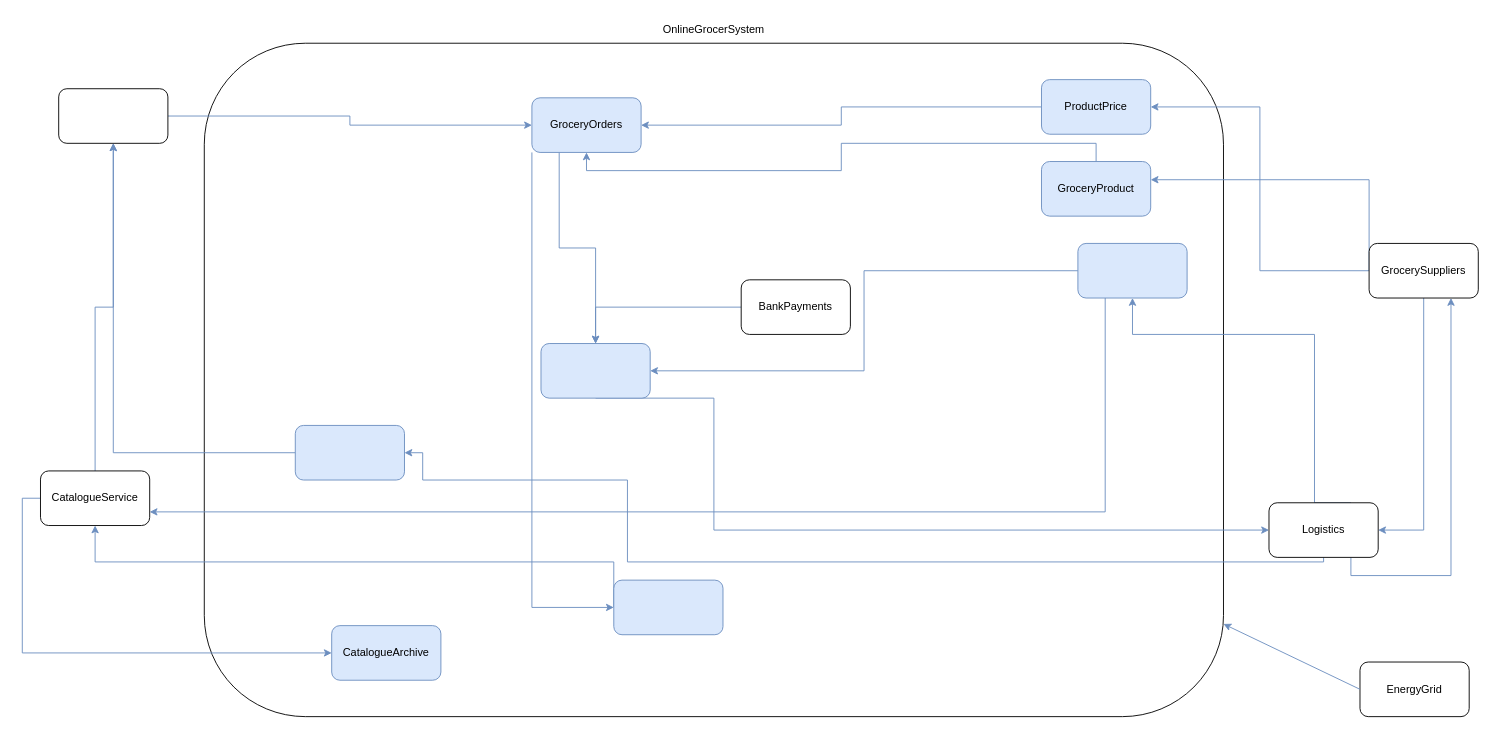
Some shapes in this 1494 by 733 pixel diagram are drawn without their labels. The shapes that lost their labels are listed below. From the top down, each one's centre as x and y in pixels, then its label:
the point at 113,115: GroceryCustomer
the point at 1132,270: ProductStock
the point at 595,370: PurchaseFulfilment
the point at 349,452: ProductDelivery
the point at 668,607: SalesData
